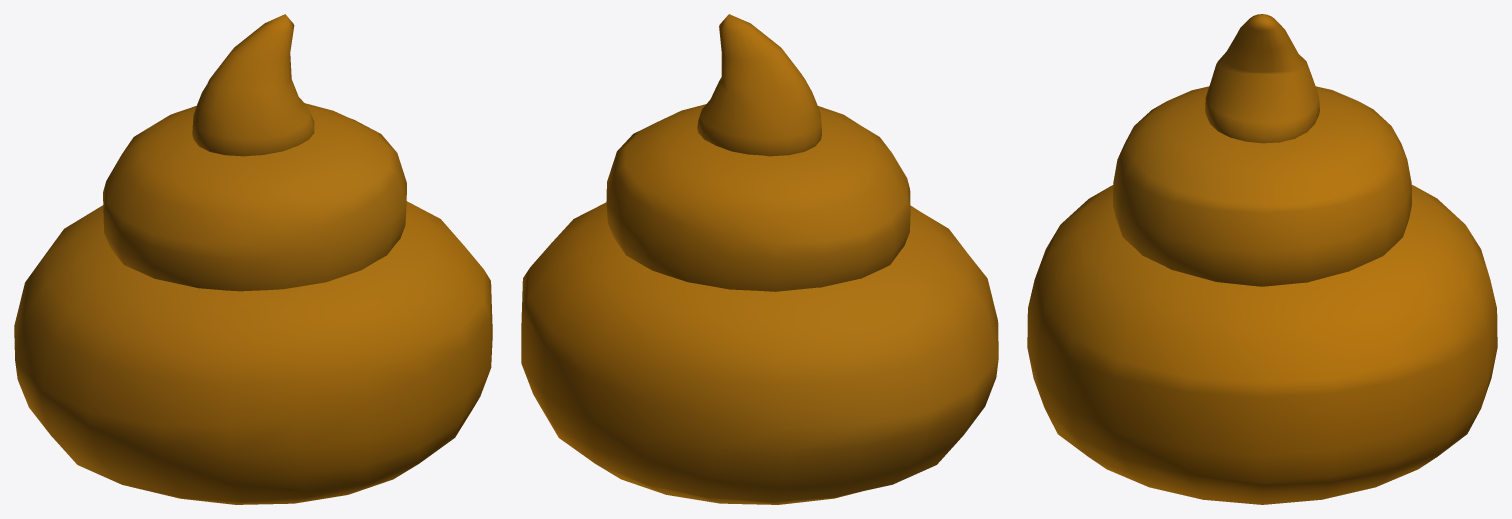
The model's file is Shit_hoangkim.fbx.
3 views of the same model, side by side, from view 1: azimuth 30°, elevation 25°; view 2: azimuth 150°, elevation 25°; view 3: azimuth 270°, elevation 25° (orthographic). The views are drawn at different scales.
Parts seen in each view (by area): view 1: Shit_hoangkim; view 2: Shit_hoangkim; view 3: Shit_hoangkim.
Boxes of the visible parts, left/top/right/bottom form: Shit_hoangkim: left=14, top=14, right=492, bottom=504; Shit_hoangkim: left=521, top=14, right=998, bottom=504; Shit_hoangkim: left=1027, top=14, right=1497, bottom=504.
Bounding box in the file's own units: 204 × 189 × 187.
